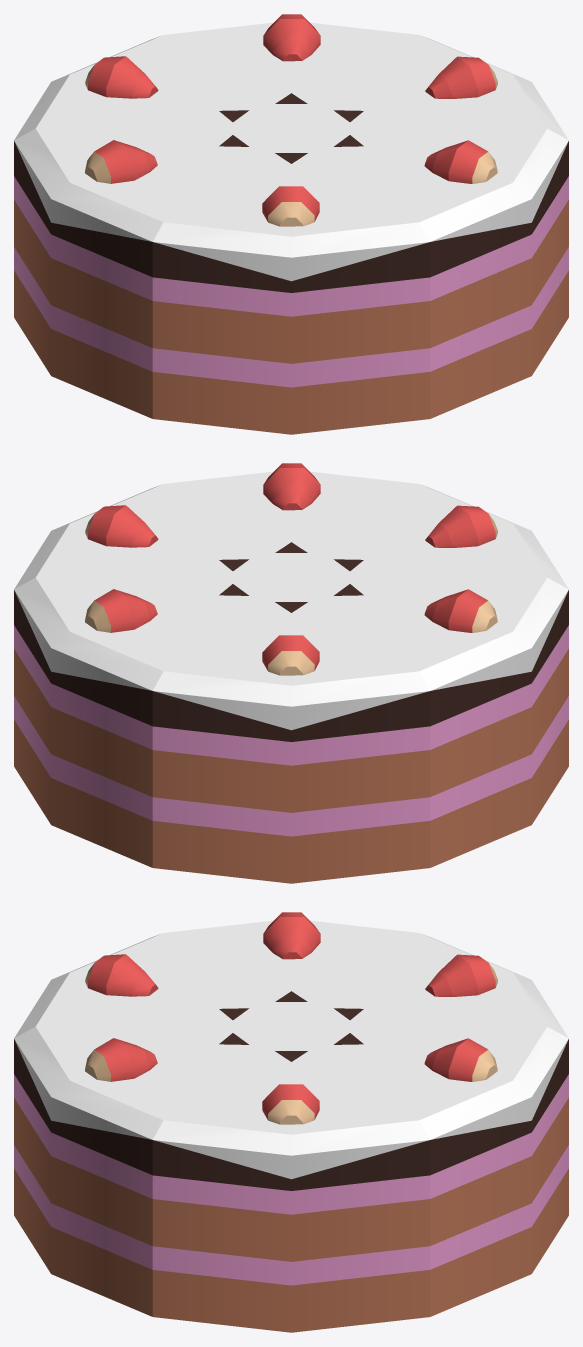
File: cake.fbx
3 views of the same model, one above another, from view 1: azimuth 30°, elevation 25°; view 2: azimuth 150°, elevation 25°; view 3: azimuth 270°, elevation 25° (orthographic).
Parts seen in each view (by area): view 1: slice (×6); view 2: slice (×6); view 3: slice (×6).
Part boxes in pixels (x1,y1,x2,y2): slice (×6): [14, 14, 568, 434]; slice (×6): [14, 463, 568, 883]; slice (×6): [14, 912, 568, 1332].
Size of the model in its own units: 6.39 by 2.73 by 6.39.
